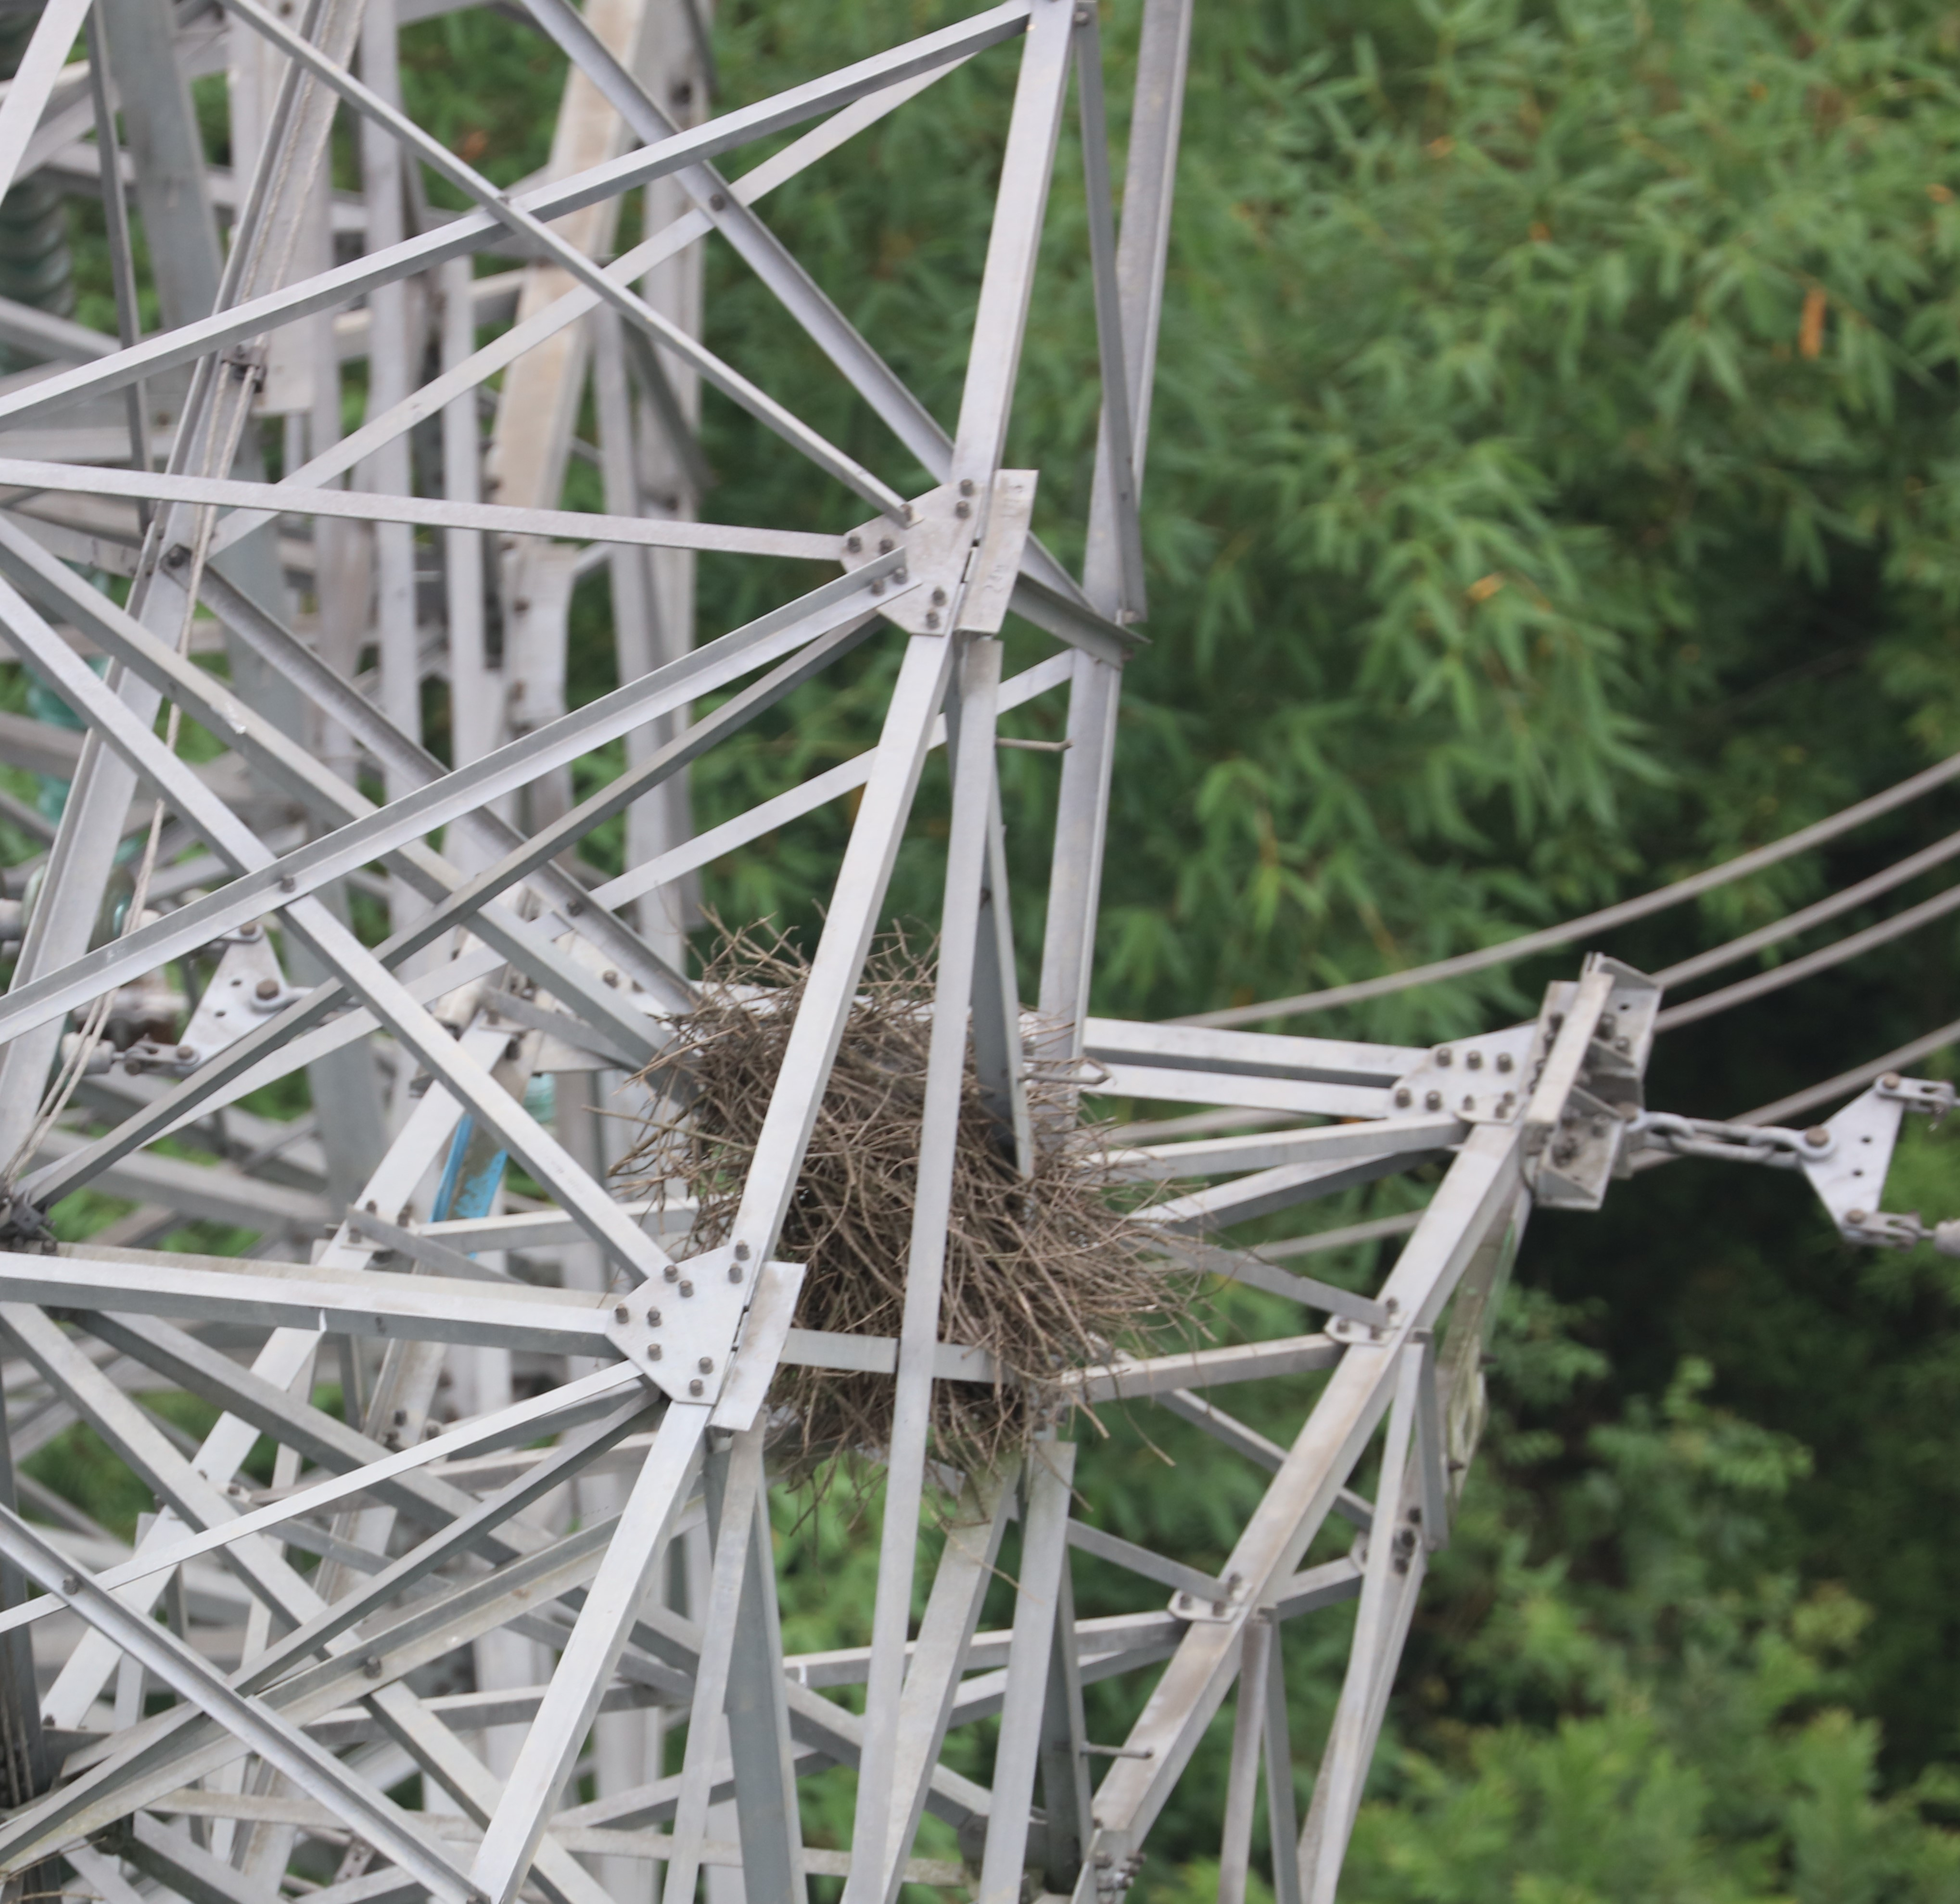niaowo: (660, 936, 1197, 1493)
